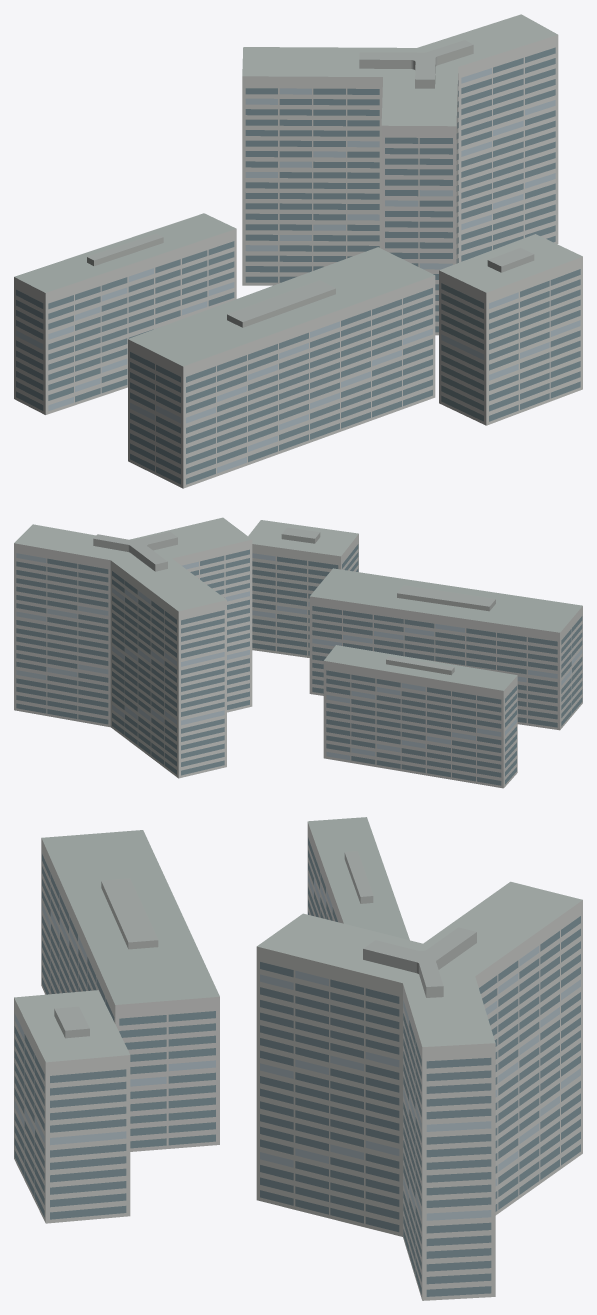
The model's file is apt-a13527019.glb.
3 views of the same model, one above another, from view 1: azimuth 30°, elevation 25°; view 2: azimuth 150°, elevation 25°; view 3: azimuth 270°, elevation 25° (orthographic). The views are drawn at different scales.
Visible parts, largest first — view 1: apt-a13527019; view 2: apt-a13527019; view 3: apt-a13527019.
Part boxes in pixels (x1,y1,x2,y2): apt-a13527019: [14, 14, 582, 488]; apt-a13527019: [14, 517, 582, 788]; apt-a13527019: [14, 817, 582, 1300].
Size of the model in its own units: 158 by 58 by 113.
